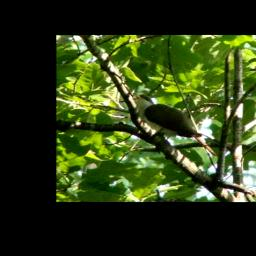Cuckoo: (129, 92, 219, 157)
